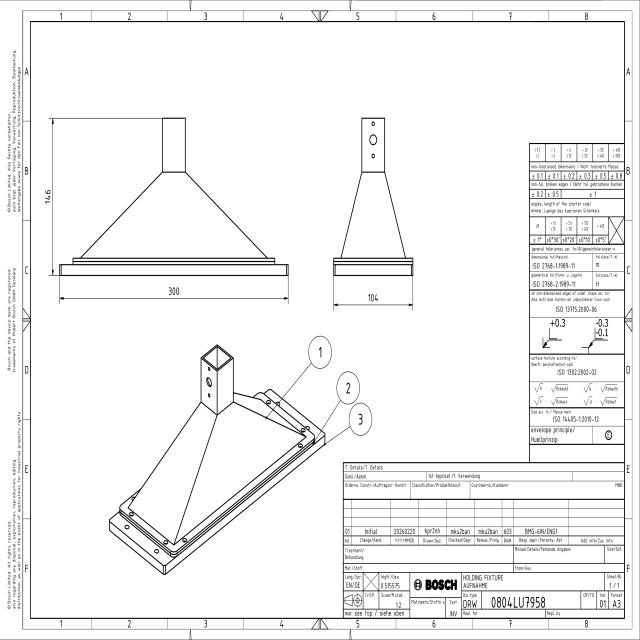dimension: (168, 285, 180, 297), (44, 187, 51, 206), (367, 292, 379, 302)
